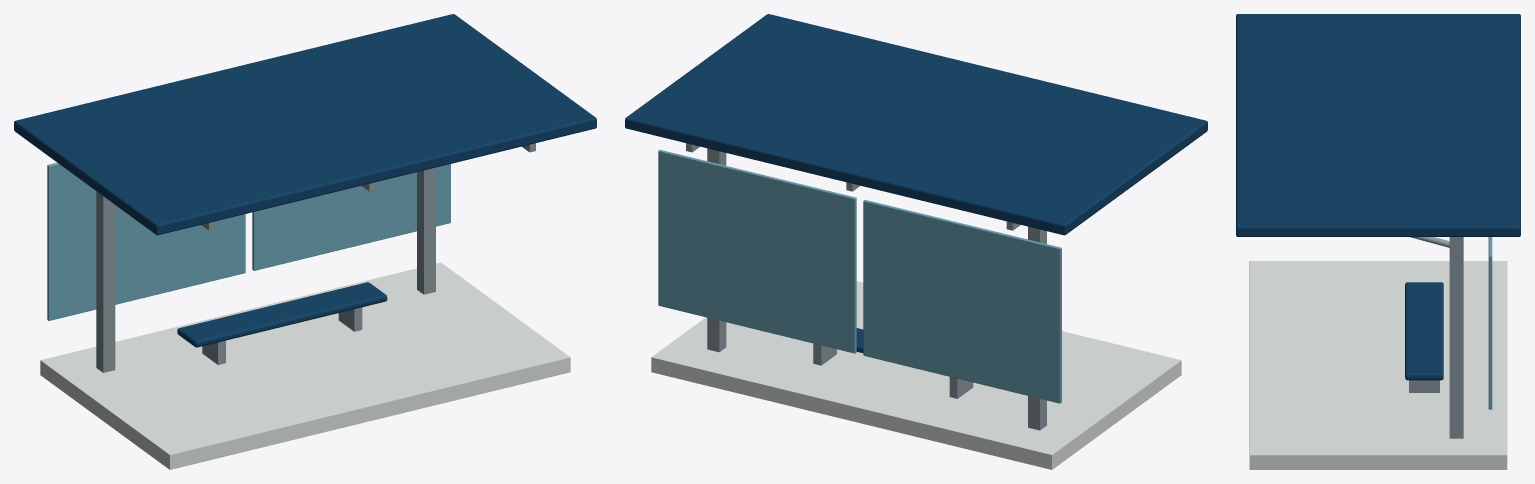
3 renders of one model, left to right at view 1: azimuth 30°, elevation 25°; view 2: azimuth 150°, elevation 25°; view 3: azimuth 270°, elevation 25°, orthographic.
Parts seen in each view (by area): view 1: ROOF_Panel, BASE_Platform, WINDSCREEN, WINDSCREEN.001, BENCH_Seat, COLUMN_Rear.001, COLUMN_Rear; view 2: ROOF_Panel, BASE_Platform, WINDSCREEN.001, WINDSCREEN, COLUMN_Rear, COLUMN_Rear.001; view 3: ROOF_Panel, BASE_Platform, BENCH_Seat, COLUMN_Rear, WINDSCREEN.001, BENCH_Leg.
Boxes of the visible parts, x1,y1,x2,y2 form: ROOF_Panel: (14, 14, 596, 235); BASE_Platform: (40, 262, 570, 469); WINDSCREEN: (47, 162, 245, 320); WINDSCREEN.001: (252, 164, 450, 270); BENCH_Seat: (177, 282, 387, 347); COLUMN_Rear.001: (96, 191, 115, 372); COLUMN_Rear: (417, 167, 435, 294); ROOF_Panel: (625, 14, 1207, 235); BASE_Platform: (651, 281, 1181, 469); WINDSCREEN.001: (658, 150, 856, 353); WINDSCREEN: (863, 200, 1061, 403); COLUMN_Rear: (707, 148, 726, 352); COLUMN_Rear.001: (1028, 226, 1046, 430); ROOF_Panel: (1236, 14, 1520, 236); BASE_Platform: (1249, 261, 1507, 469); BENCH_Seat: (1405, 282, 1443, 380); COLUMN_Rear: (1449, 237, 1463, 438); WINDSCREEN.001: (1488, 237, 1492, 409); BENCH_Leg: (1409, 380, 1439, 392).
Size of the model in its own units: 5.5 by 3.04 by 3.1.
